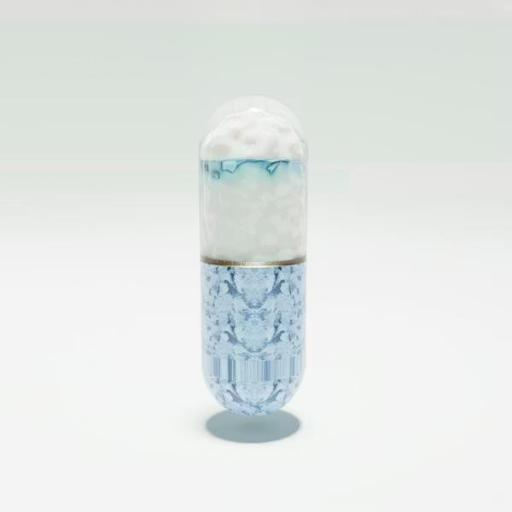bottle: (192, 86, 323, 436)
